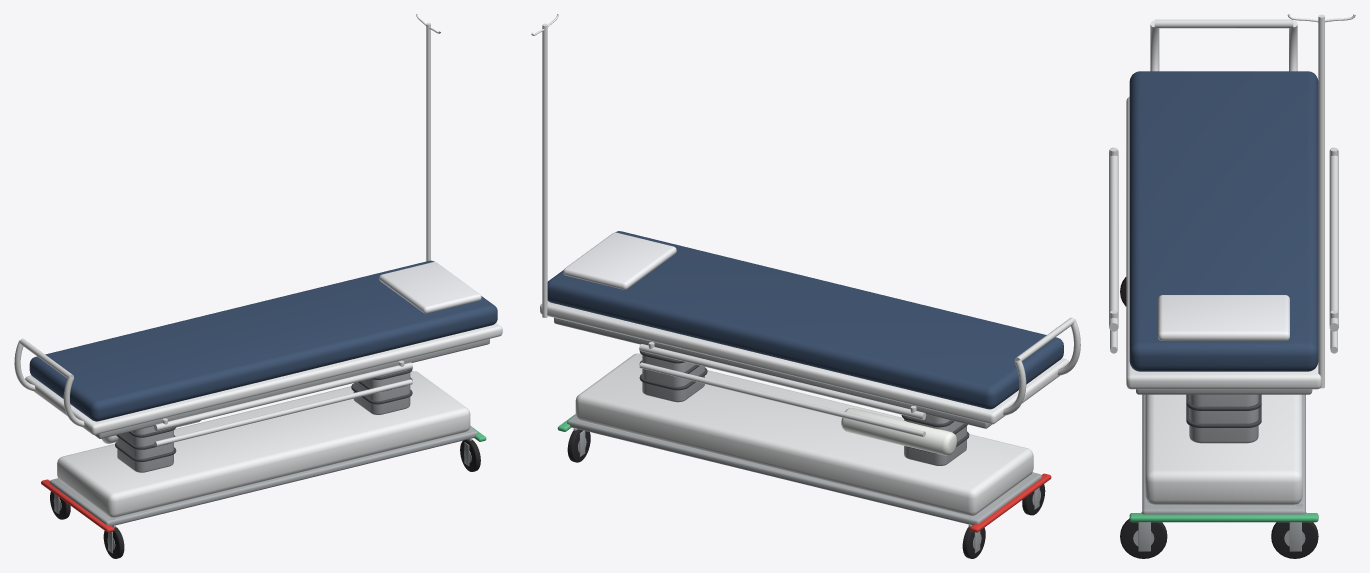
Rendered from brancard.glb.
3 renders of one model, left to right at view 1: azimuth 30°, elevation 25°; view 2: azimuth 150°, elevation 25°; view 3: azimuth 270°, elevation 25°, orthographic. The views are drawn at different scales.
Parts seen in each view (by area): view 1: brancard; view 2: brancard; view 3: brancard.
Part boxes in pixels (bbox=[...]): brancard: bbox=[14, 14, 502, 558]; brancard: bbox=[531, 14, 1080, 558]; brancard: bbox=[1109, 14, 1355, 558].
Size of the model in its own units: 2.22 by 1.96 by 0.7837.
